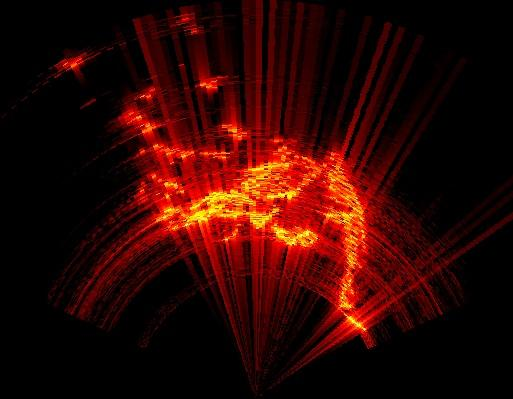shipwreck: (152, 144, 321, 246), (123, 108, 227, 164), (321, 175, 363, 308)
